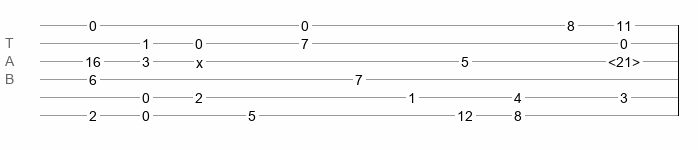0: (89, 18, 97, 28), (142, 108, 150, 118), (142, 90, 150, 100), (195, 36, 203, 46), (301, 18, 309, 28), (620, 36, 628, 46)
1: (142, 36, 150, 46), (408, 90, 416, 100)
11: (616, 18, 632, 28)
12: (457, 108, 473, 118)
16: (85, 54, 101, 64)
2: (89, 108, 97, 118), (195, 90, 203, 100)
3: (142, 54, 150, 64), (620, 90, 628, 100)
4: (514, 90, 522, 100)
5: (248, 108, 256, 118), (461, 54, 469, 64)
6: (89, 72, 97, 82)
7: (301, 36, 309, 46), (355, 72, 363, 82)
8: (514, 108, 522, 118), (567, 18, 575, 28)
harmonic: (608, 54, 640, 64)
x: (196, 55, 203, 63)
